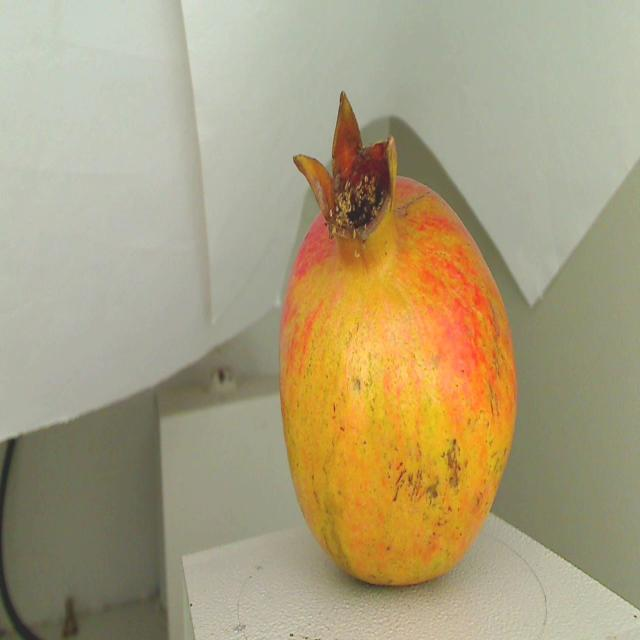pomegranate: (266, 113, 525, 584)
